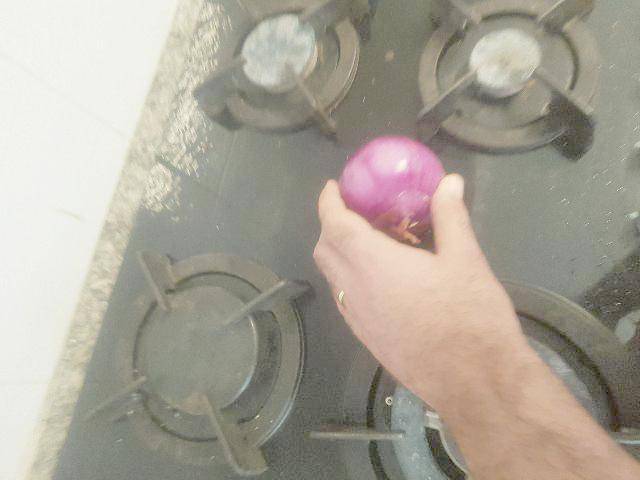onion: (342, 134, 453, 241)
